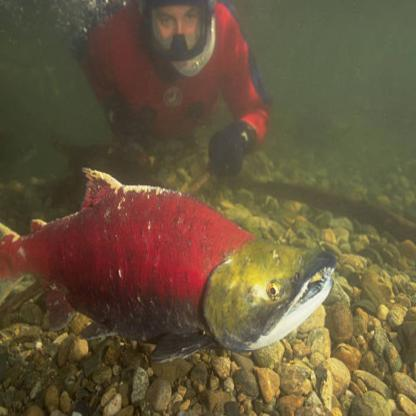sockeye: (5, 165, 331, 353)
